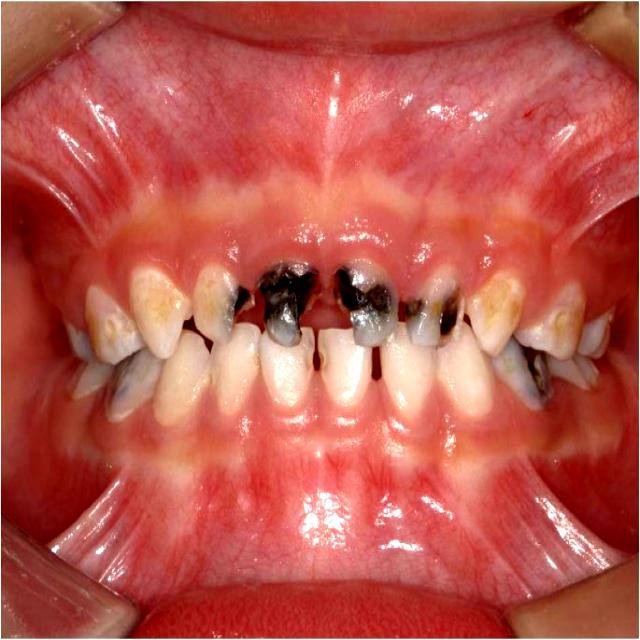cariess: (334, 268, 459, 346), (257, 263, 320, 346), (493, 336, 551, 406), (108, 349, 164, 421), (230, 286, 255, 324)
